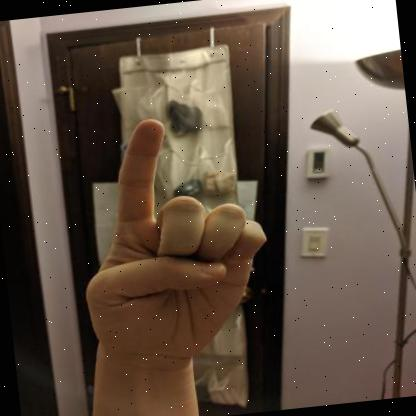D: (85, 118, 266, 371)
